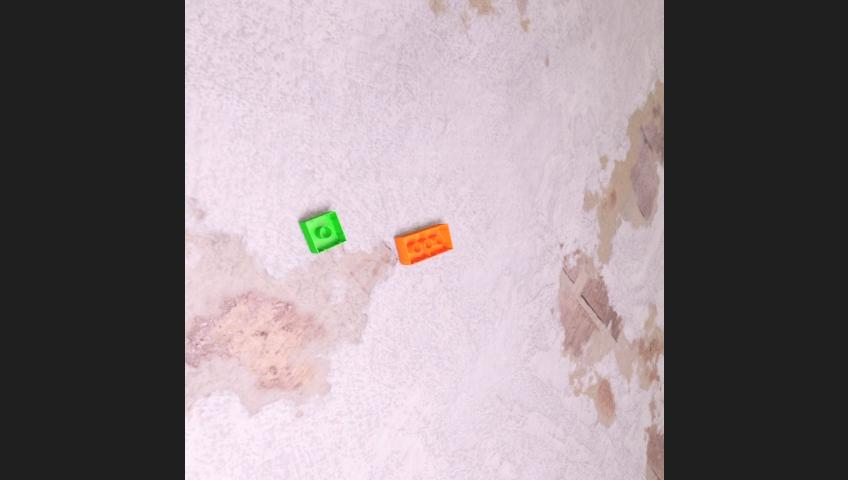2x2_green: (299, 210, 347, 253)
4x2_orange: (395, 223, 454, 264)
